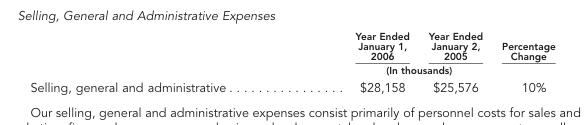table: (29, 29, 554, 94)
table column: (29, 29, 293, 94), (293, 29, 418, 94), (418, 29, 491, 94), (491, 29, 554, 94)
table column header: (29, 29, 554, 77)
table row: (29, 29, 554, 62), (29, 77, 554, 94), (29, 62, 554, 77)
table spanning cell: (491, 29, 554, 77), (293, 62, 491, 77)
